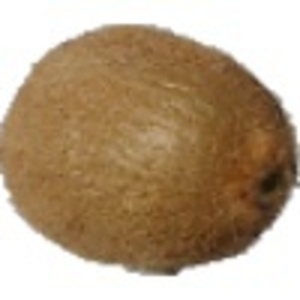kiwi: (1, 23, 300, 280)
